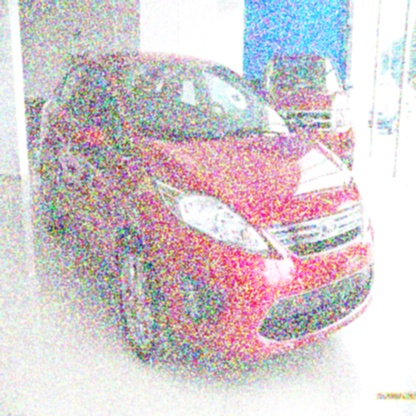Vehicle: (40, 51, 376, 366)
